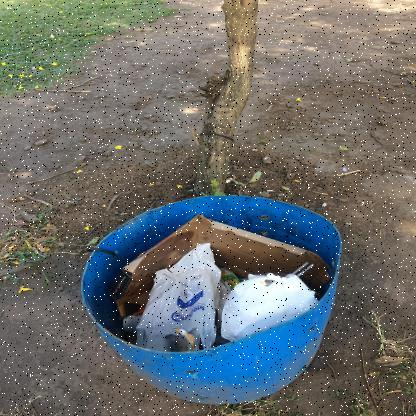cardboard: (107, 214, 334, 318), (219, 268, 242, 290)
plastic: (135, 242, 221, 354), (220, 274, 318, 342), (174, 328, 196, 352)
